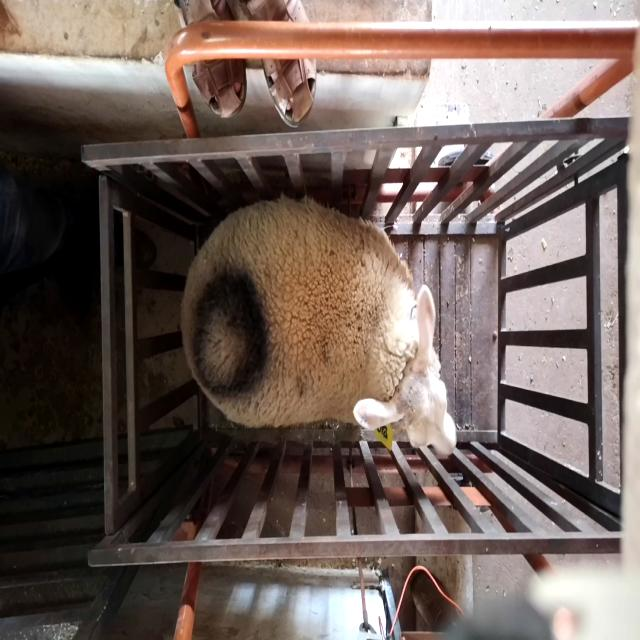sheep: (180, 194, 457, 457)
